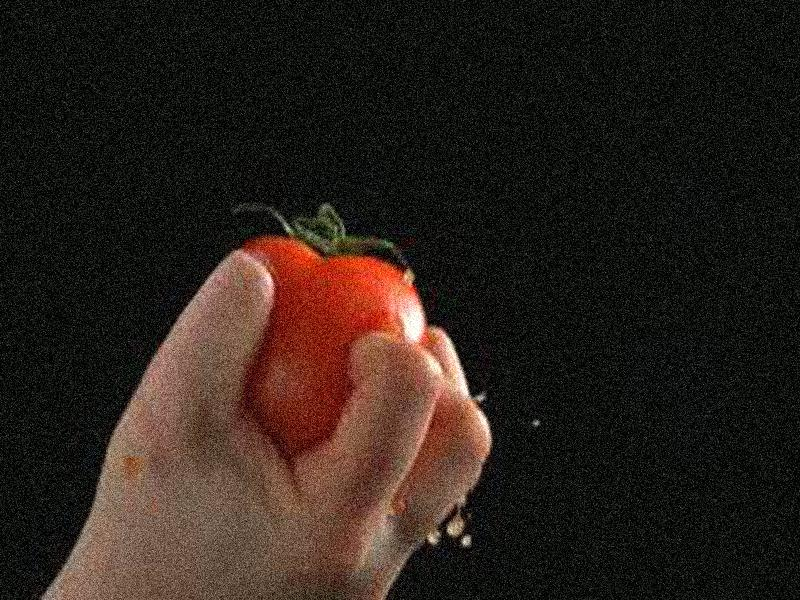Tomato: (240, 236, 424, 454)
